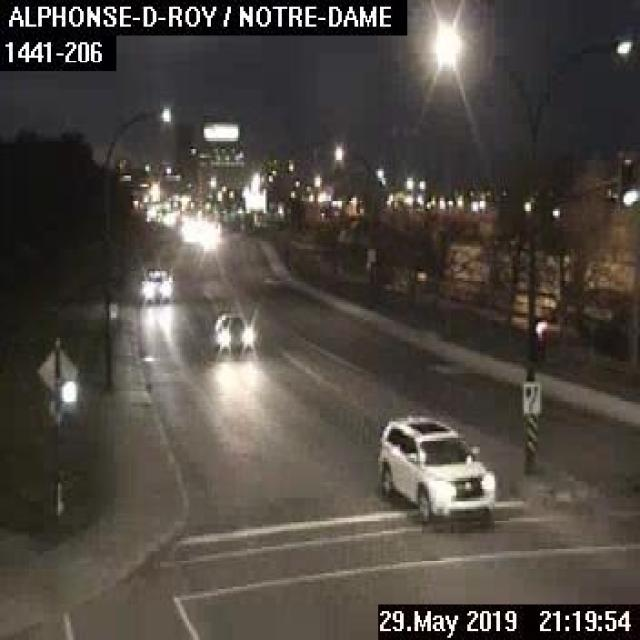vehicle: (374, 413, 496, 522), (209, 307, 254, 354), (142, 264, 171, 304)
